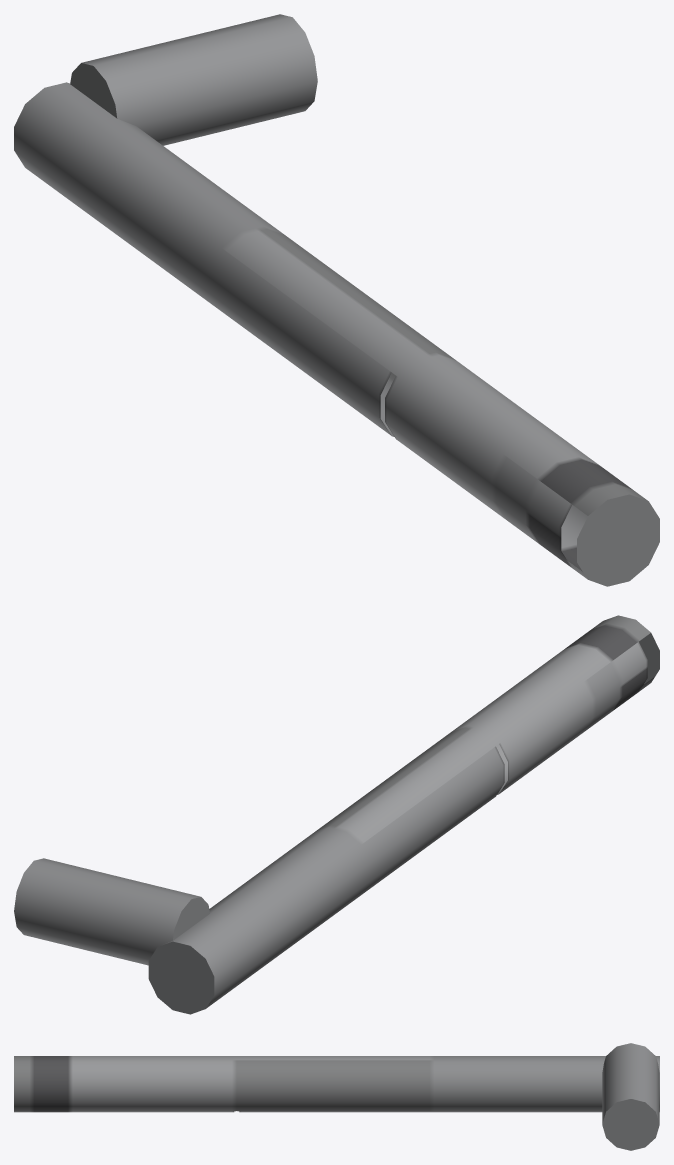
The picture shows the model from 3 angles, top to bottom: view 1: azimuth 30°, elevation 25°; view 2: azimuth 150°, elevation 25°; view 3: azimuth 270°, elevation 25°; orthographic projection. The views are drawn at different scales.
Size of the model in its own units: 0.6369 by 0.2916 by 2.45.
